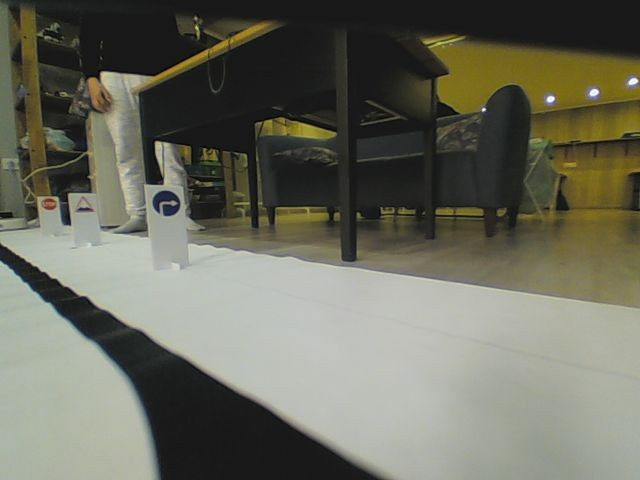Nerov: (73, 195, 95, 215)
Right: (151, 189, 180, 217)
